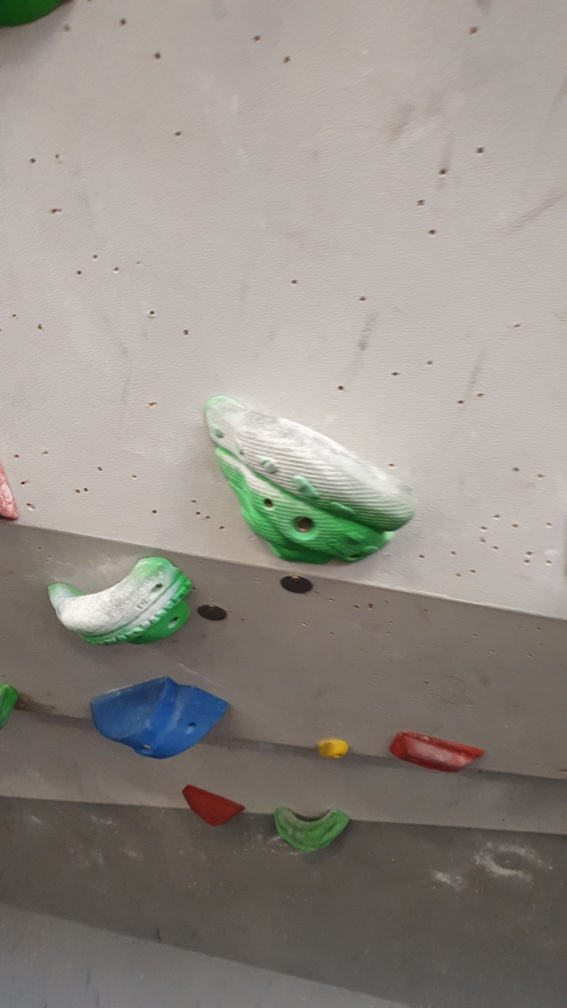Crimp: (389, 723, 488, 776)
Hand Start: (275, 568, 324, 602), (196, 599, 230, 623)
Jug: (199, 388, 415, 573), (44, 555, 199, 649), (267, 803, 358, 857)
Pinch: (85, 676, 234, 761)
